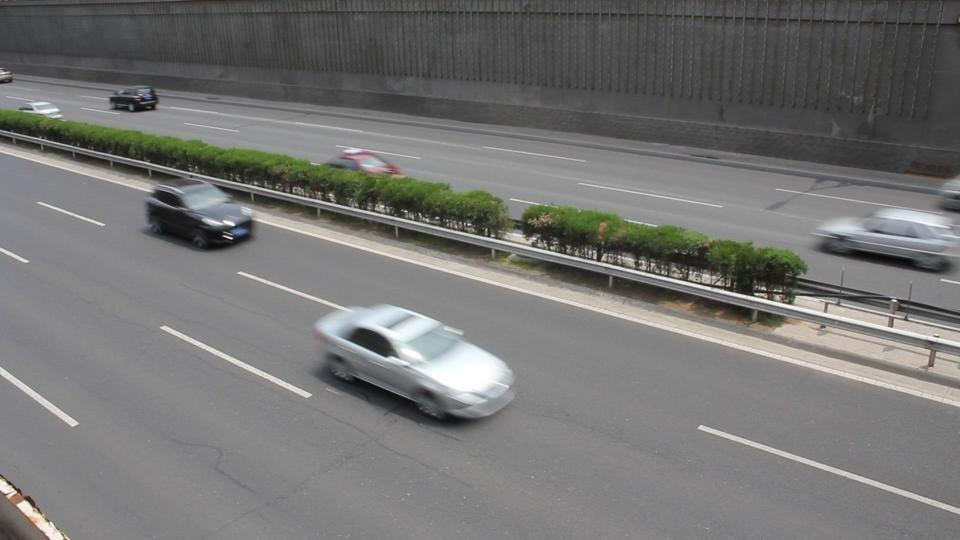car: (315, 303, 516, 421), (813, 207, 960, 273), (144, 180, 255, 249), (331, 147, 404, 177), (109, 85, 160, 112), (16, 100, 62, 118), (936, 176, 960, 210), (0, 66, 15, 83)
